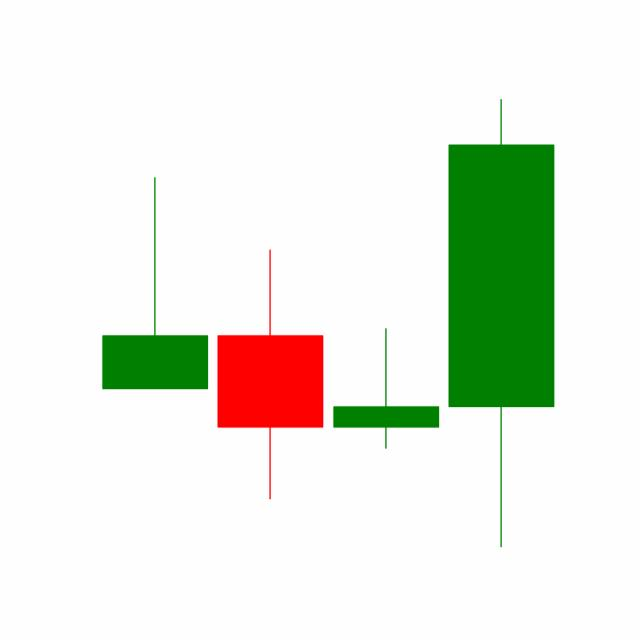Gravestone Doji: (328, 326, 444, 451)
